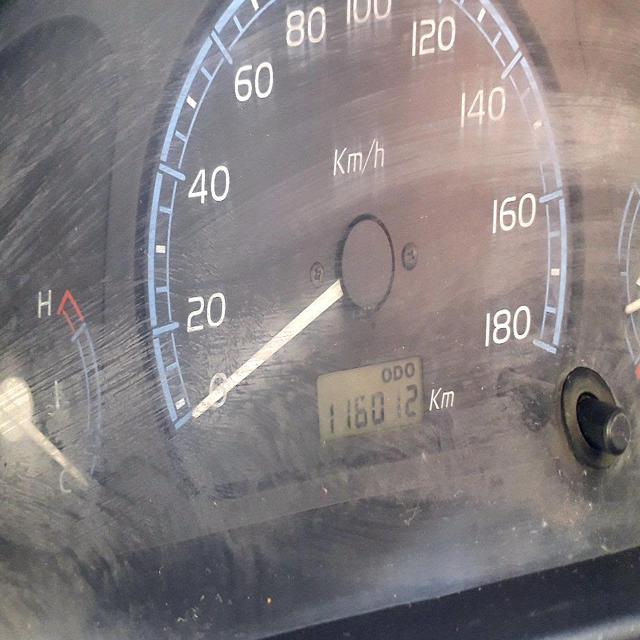odometer: (326, 381, 420, 435)
